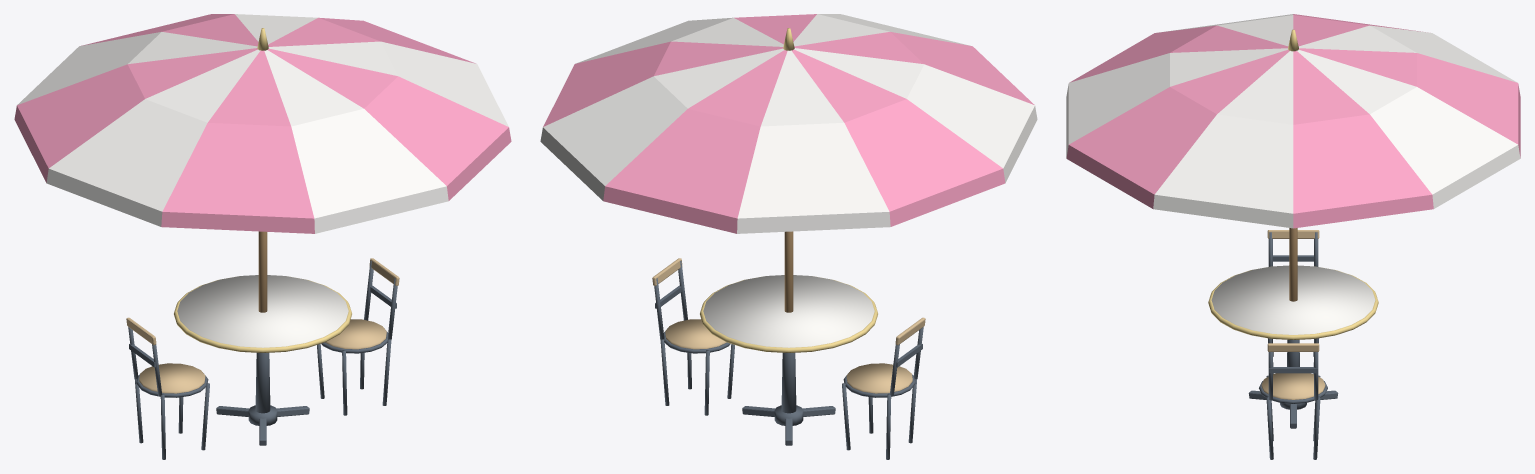
The model's file is prop_sidewalk_cafe.glb.
3 renders of one model, left to right at view 1: azimuth 30°, elevation 25°; view 2: azimuth 150°, elevation 25°; view 3: azimuth 270°, elevation 25°, orthographic. The views are drawn at different scales.
Visible parts, largest first — view 1: TablePedestal; view 2: TablePedestal; view 3: TablePedestal.
Boxes of the visible parts, <box> form: TablePedestal: <box>14,14,511,459</box>; TablePedestal: <box>540,14,1037,459</box>; TablePedestal: <box>1066,14,1520,459</box>.
Size of the model in its own units: 3.15 by 2.75 by 3.
